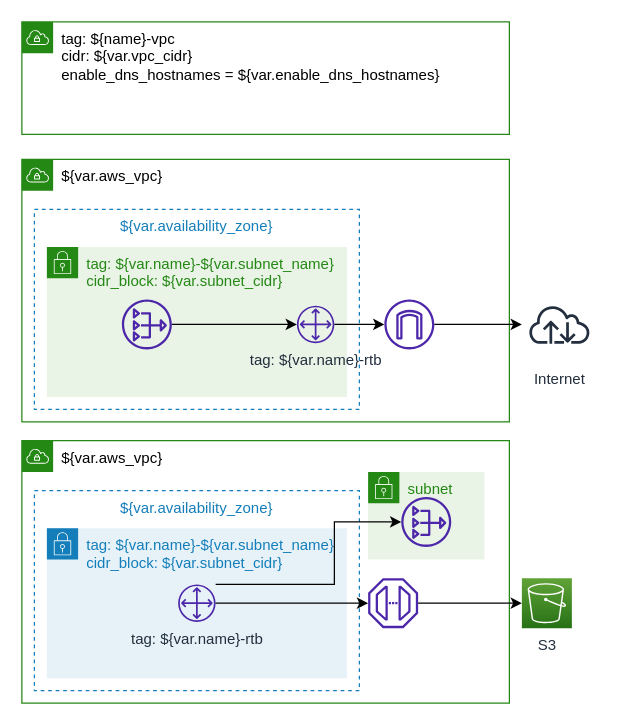
The diagram is 619 pixels wide and 725 high, and some of its shapes have lost their labels. Here are the shapes that lost their labels. From the top down, the centre of each, then its label:
(146,324): ${var.create_natgw} == true tag: ${var.name}-natgw
(409,324): ${var.create_inetgw} == true
(426,521): ${var.nat_gateway_id}
(393,603): ${var.create_s3_endpoint} == true tag: ${var.name}-ep-s3 ${var.s3_service_name}
